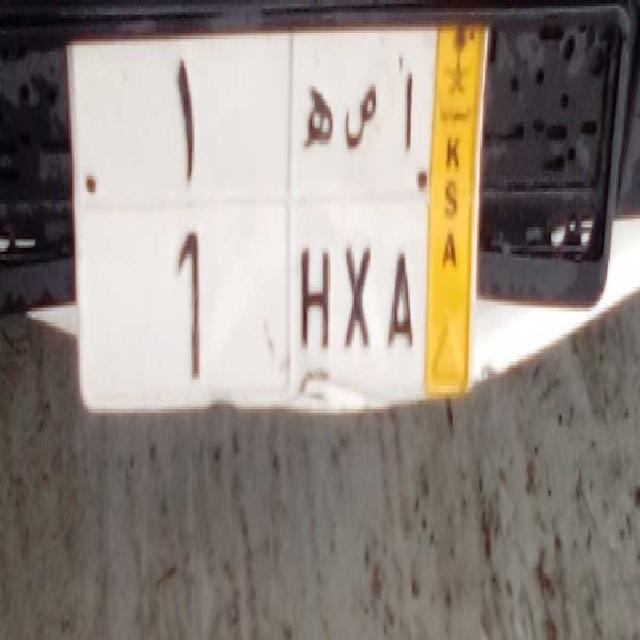license_plate: (74, 192, 428, 412)
